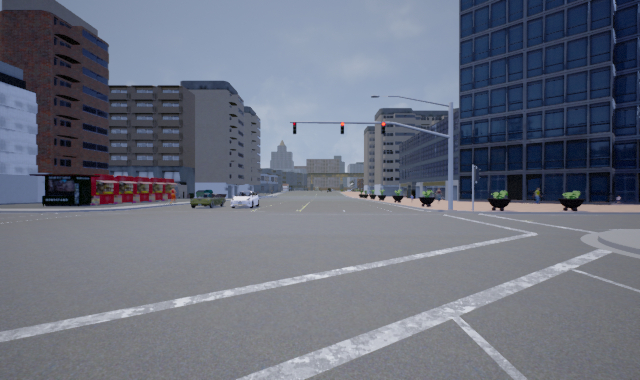pedestrian: (169, 187, 178, 206), (533, 186, 542, 203), (435, 186, 442, 203)
traffic_light: (381, 119, 387, 136), (340, 121, 346, 137), (292, 121, 297, 135)
vehicle: (190, 190, 226, 210), (230, 190, 261, 209)
